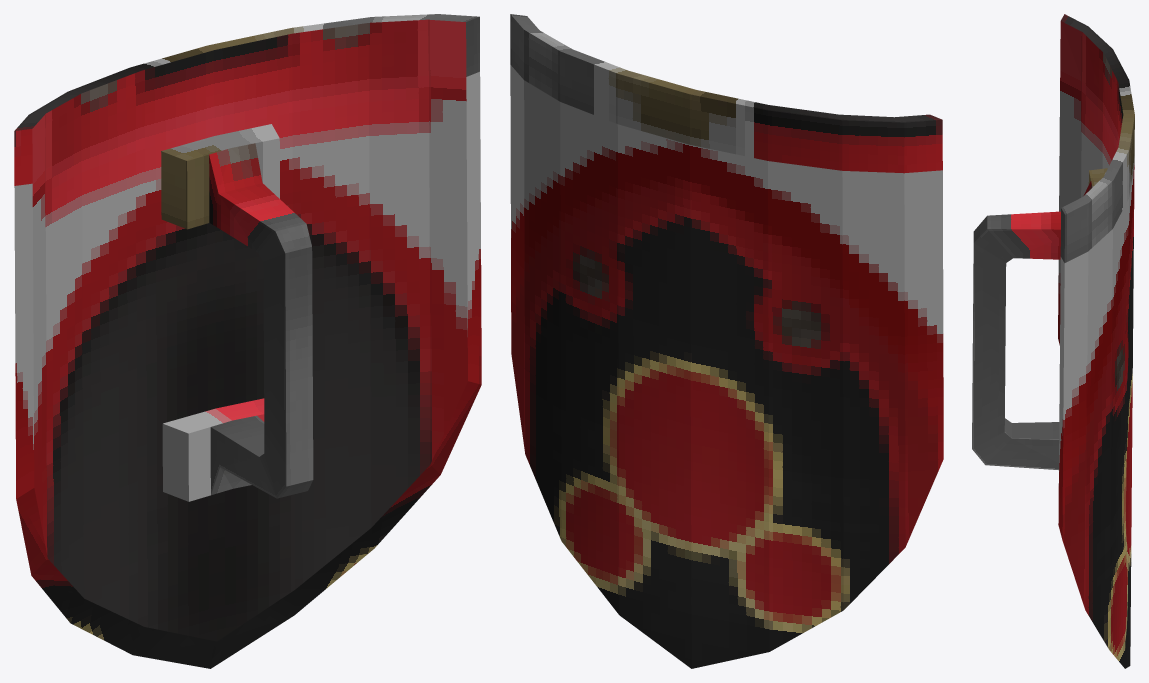
The model's file is dreamshield.obj.
3 renders of one model, left to right at view 1: azimuth 30°, elevation 25°; view 2: azimuth 150°, elevation 25°; view 3: azimuth 270°, elevation 25°, orthographic. The views are drawn at different scales.
Visible parts, largest first — view 1: dreamshield; view 2: dreamshield; view 3: dreamshield.
Boxes of the visible parts, x1,y1,x2,y2 form: dreamshield: (14, 14, 481, 668); dreamshield: (510, 14, 943, 668); dreamshield: (972, 14, 1134, 668).
Size of the model in its own units: 47.46 by 60.54 by 16.21.
